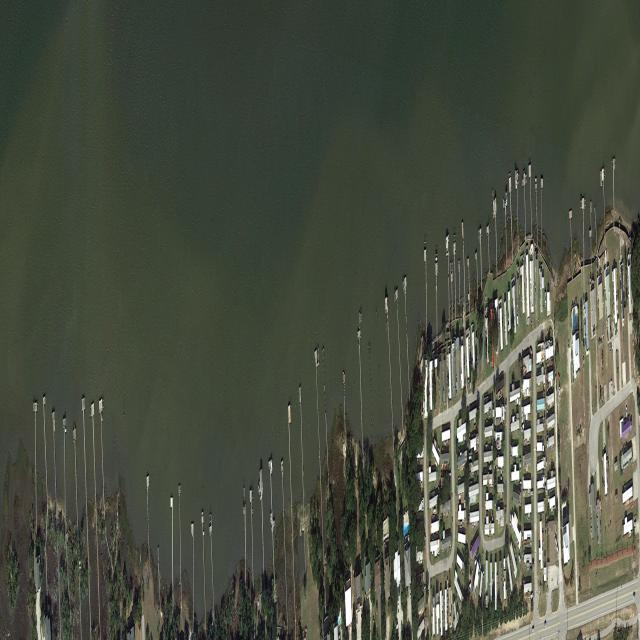ship: (515, 171, 517, 191), (468, 581, 471, 594), (521, 422, 524, 434), (518, 554, 521, 565), (503, 198, 505, 214), (611, 336, 613, 352), (600, 171, 602, 187), (422, 444, 424, 459), (258, 483, 260, 497), (271, 461, 273, 475), (489, 464, 492, 472), (433, 508, 436, 515), (506, 191, 507, 207), (545, 293, 546, 309), (435, 257, 438, 262), (258, 597, 259, 612), (544, 343, 545, 357), (447, 354, 448, 368), (469, 338, 470, 349), (447, 377, 447, 384)
small-vehicle: (504, 399, 507, 415), (509, 512, 512, 528), (556, 544, 559, 558), (476, 547, 479, 559), (626, 406, 628, 421), (479, 559, 481, 574), (409, 583, 411, 598), (449, 571, 451, 585), (424, 608, 427, 617), (360, 606, 362, 619), (478, 554, 480, 567), (530, 592, 533, 600), (483, 564, 485, 576), (551, 359, 554, 367), (468, 380, 470, 392), (455, 386, 457, 397), (558, 372, 560, 382), (356, 614, 358, 624), (530, 346, 532, 355), (531, 491, 534, 496), (530, 567, 532, 574), (532, 627, 534, 634), (634, 521, 636, 528), (611, 381, 612, 395), (610, 344, 611, 358), (492, 391, 493, 404), (398, 600, 399, 613), (447, 578, 448, 591), (633, 593, 635, 599), (500, 476, 502, 482), (521, 359, 522, 371), (544, 622, 546, 628), (399, 584, 400, 596), (532, 354, 533, 365), (559, 387, 560, 398), (532, 561, 534, 566)
